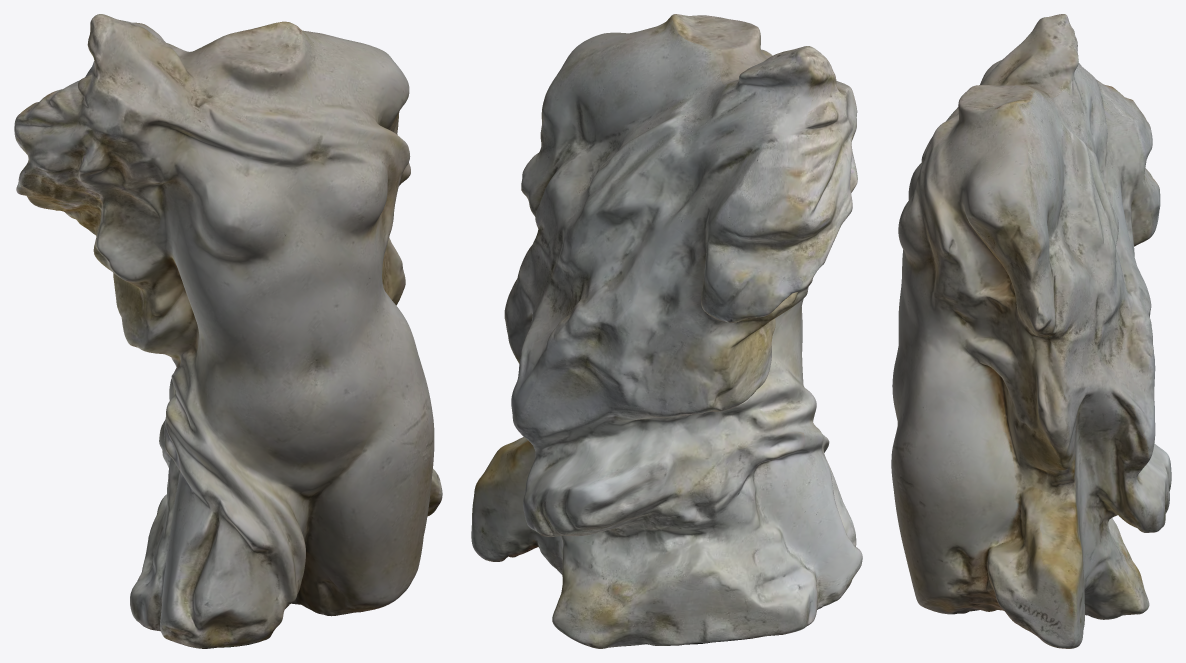
File: preview.glb
3 views of the same model, side by side, from view 1: azimuth 30°, elevation 25°; view 2: azimuth 150°, elevation 25°; view 3: azimuth 270°, elevation 25° (orthographic). The views are drawn at different scales.
Visible parts, largest first — view 1: Object_2; view 2: Object_2; view 3: Object_2.
Part boxes in pixels (bbox=[...]): Object_2: bbox=[14, 14, 442, 648]; Object_2: bbox=[471, 14, 862, 648]; Object_2: bbox=[891, 14, 1171, 648].
Bounding box in the file's own units: 20.19 × 30.85 × 14.83.
Materials: 1 (1 with a texture image).
